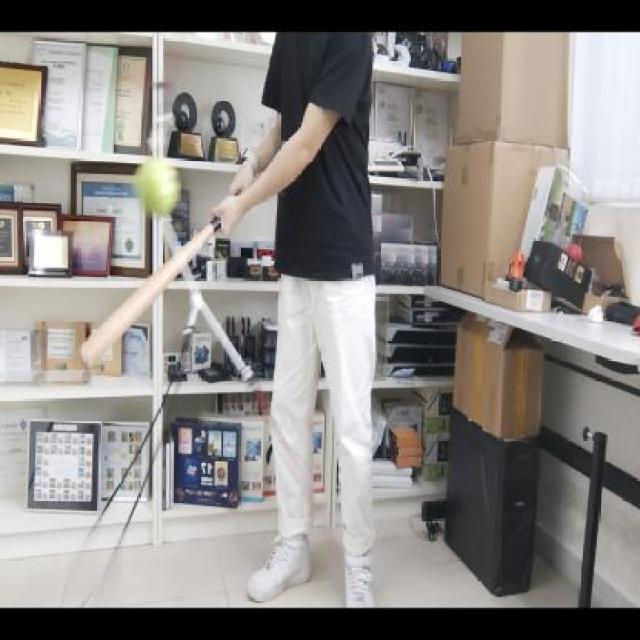baseball: (133, 158, 182, 218)
